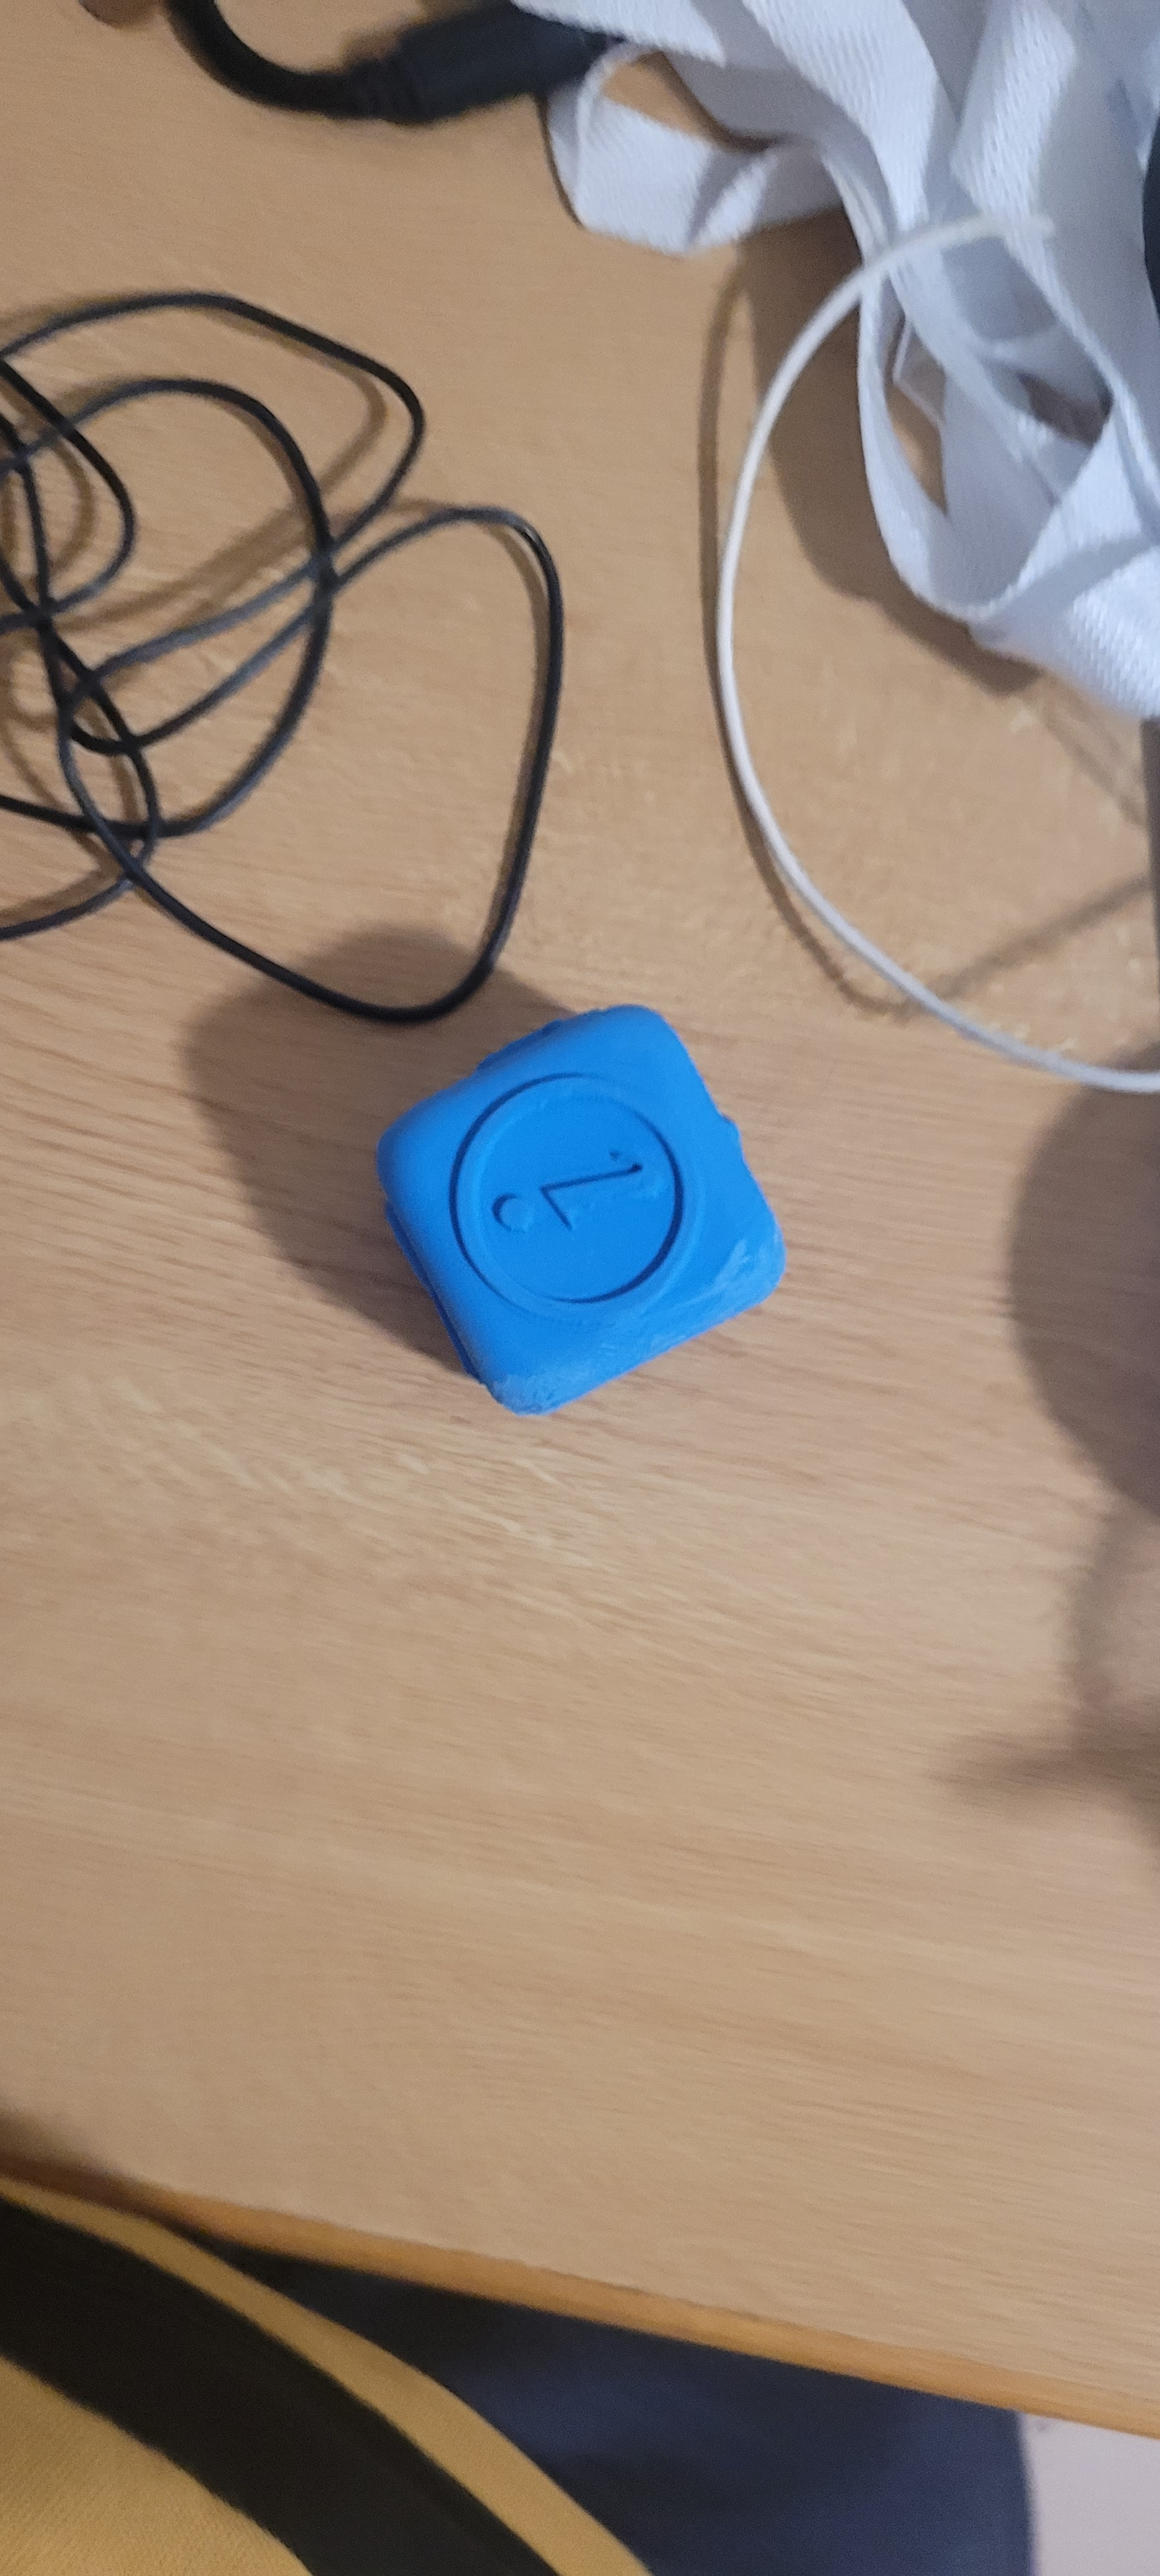Info: (399, 1060, 777, 1318)
